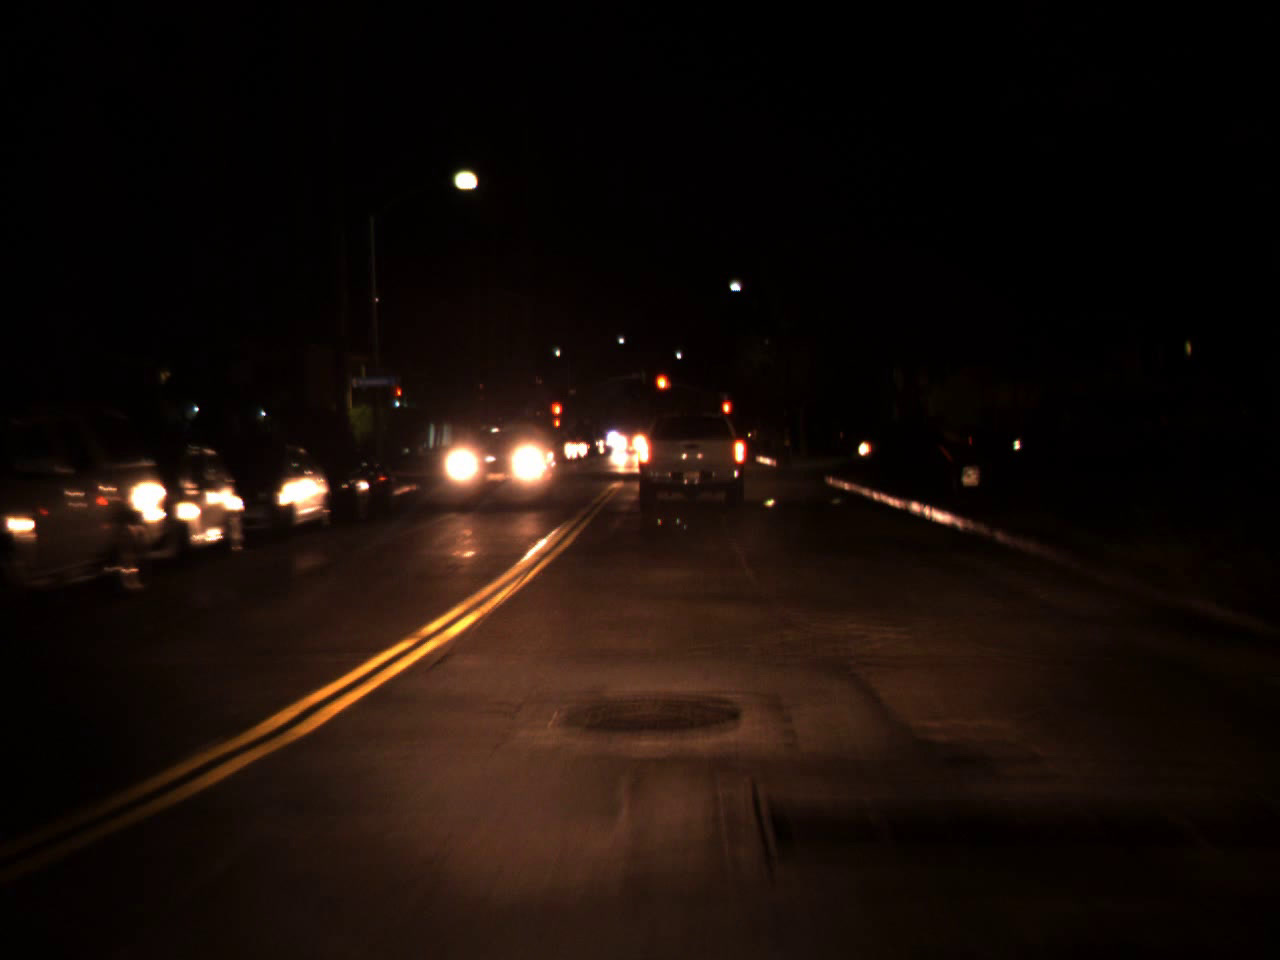stop: (654, 372, 670, 407), (549, 400, 564, 432), (721, 399, 731, 431)
